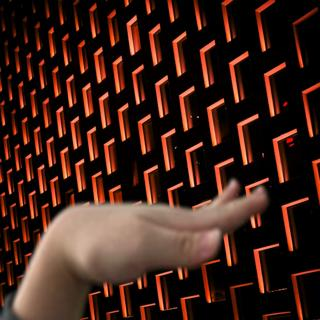Wait: (45, 169, 278, 290)
